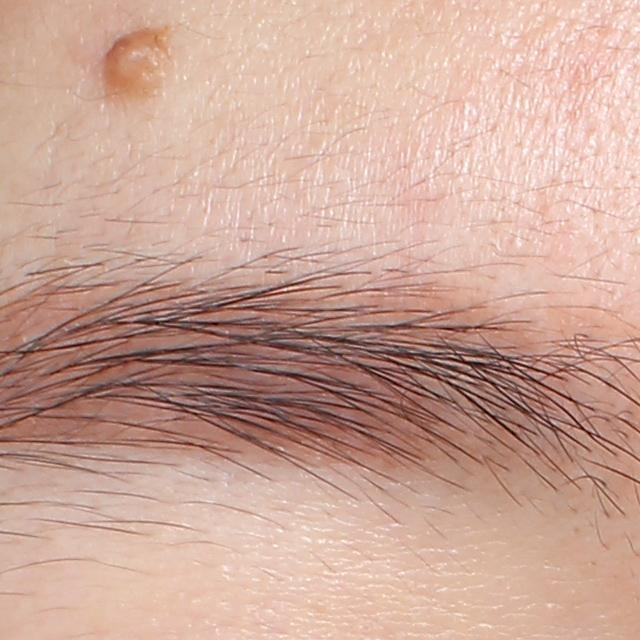other: (86, 11, 179, 113)
